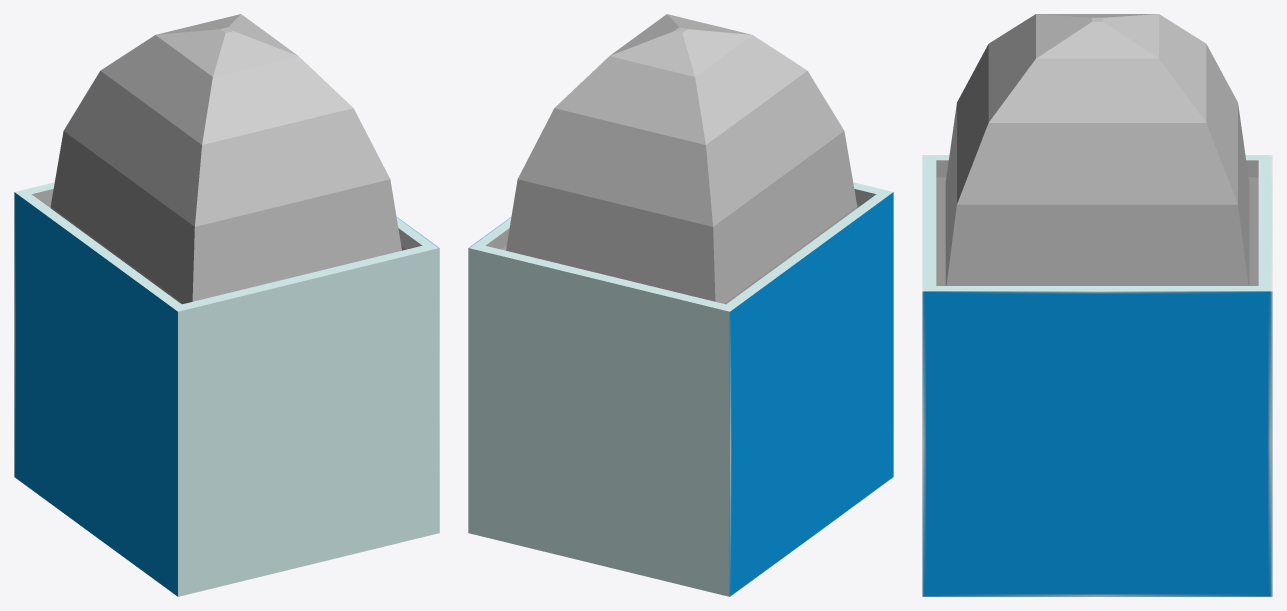
Rendered from SpeedCBullet.obj.
3 renders of one model, left to right at view 1: azimuth 30°, elevation 25°; view 2: azimuth 150°, elevation 25°; view 3: azimuth 270°, elevation 25°, orthographic. The views are drawn at different scales.
Parts seen in each view (by area): view 1: 立方体; view 2: 立方体; view 3: 立方体.
Part boxes in pixels (left/top/right/bottom): 立方体: left=14, top=14, right=439, bottom=596; 立方体: left=468, top=14, right=893, bottom=596; 立方体: left=922, top=14, right=1272, bottom=596.
Size of the model in its own units: 0.325 by 0.5642 by 0.3521.
2 materials, 1 textured.
